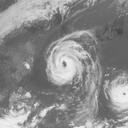cyclone: (45, 40, 85, 87)
